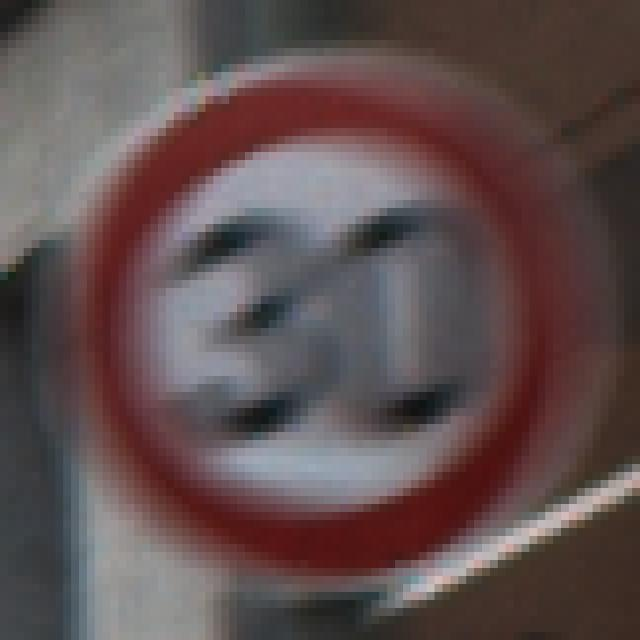Speed Limit -30-: (63, 52, 577, 580)
